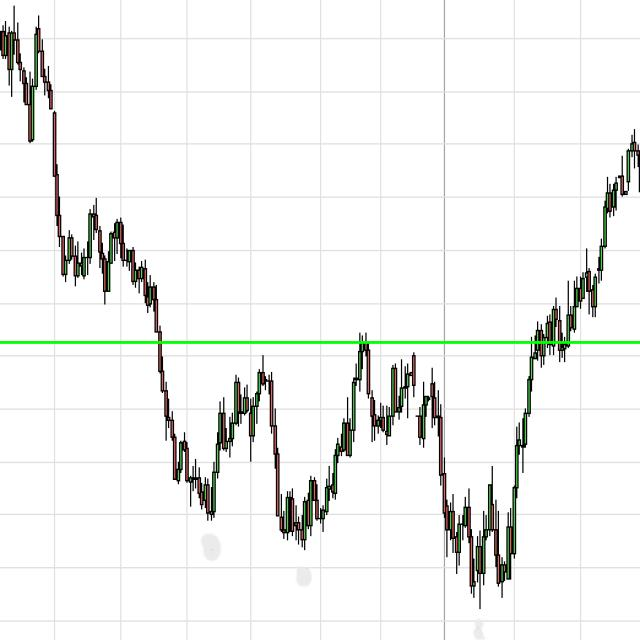Triple-Bottom: (150, 346, 547, 598)
